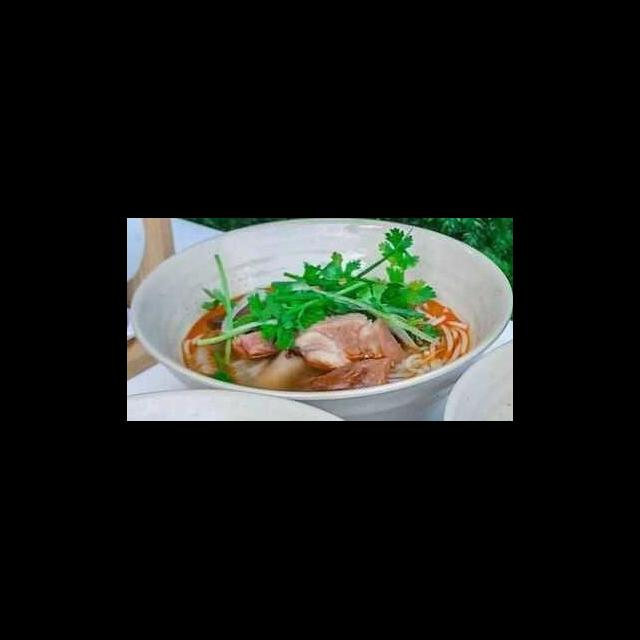bun: (384, 298, 475, 386)
bun bo: (152, 231, 489, 416)
thit bo: (287, 310, 409, 370), (289, 352, 394, 396), (227, 322, 297, 362)
